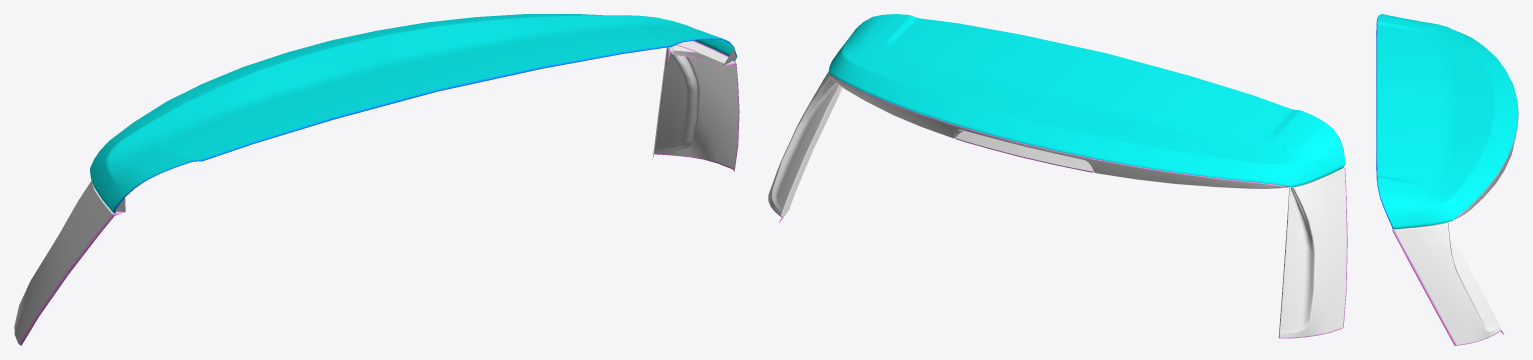
File: Car_Mini_CountrymanJCW_2017_Spoiler_SetA_AltA.fbx
3 renders of one model, left to right at view 1: azimuth 30°, elevation 25°; view 2: azimuth 150°, elevation 25°; view 3: azimuth 270°, elevation 25°, orthographic. The views are drawn at different scales.
Visible parts, largest first — view 1: Spoiler 6; view 2: Spoiler 6; view 3: Spoiler 6.
Boxes of the visible parts, <box> form: Spoiler 6: <box>14,14,739,345</box>; Spoiler 6: <box>768,14,1347,341</box>; Spoiler 6: <box>1376,14,1518,345</box>.
Size of the model in its own units: 1.32 by 0.3879 by 0.3479.
